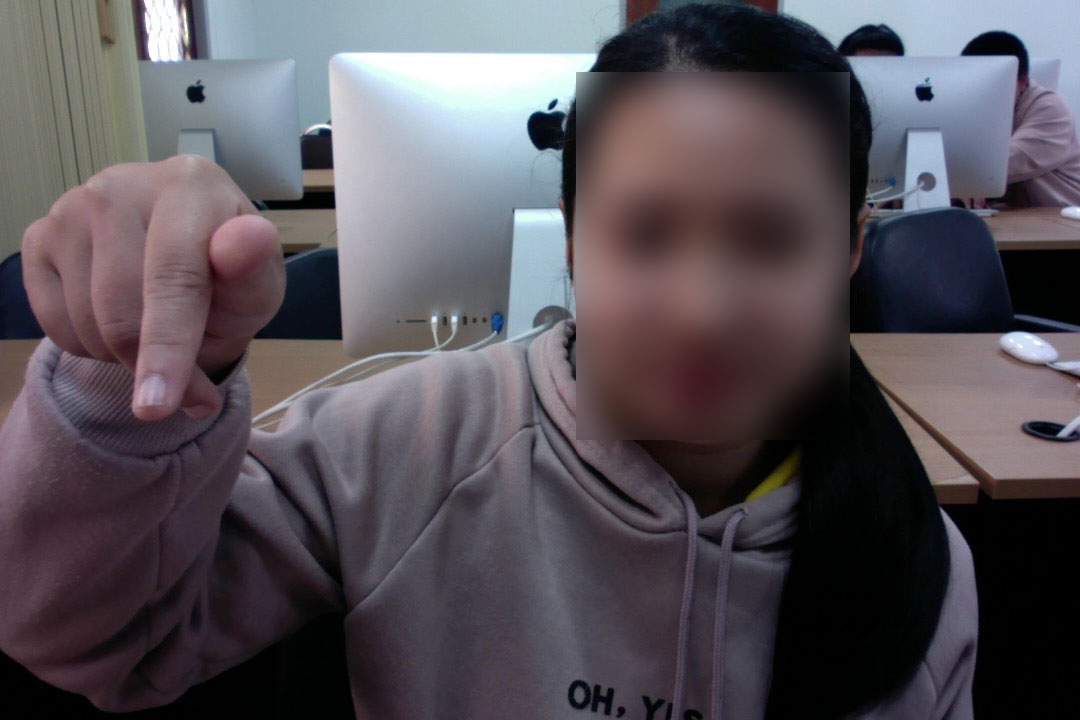por: (20, 134, 297, 425)
